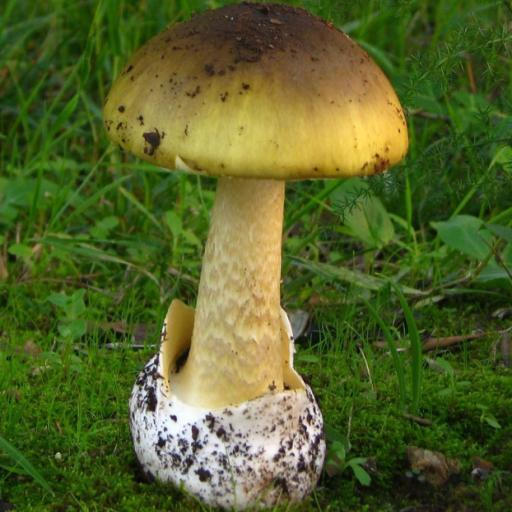mushroom: (11, 0, 436, 512)
